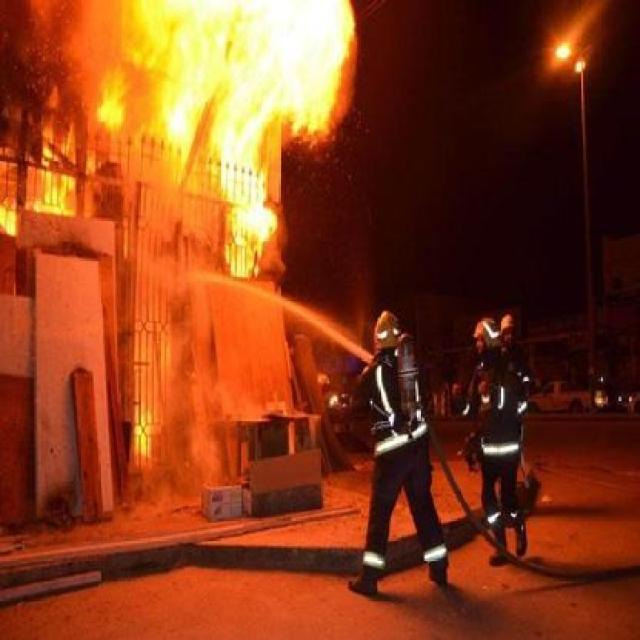Fire: (3, 2, 363, 280)
